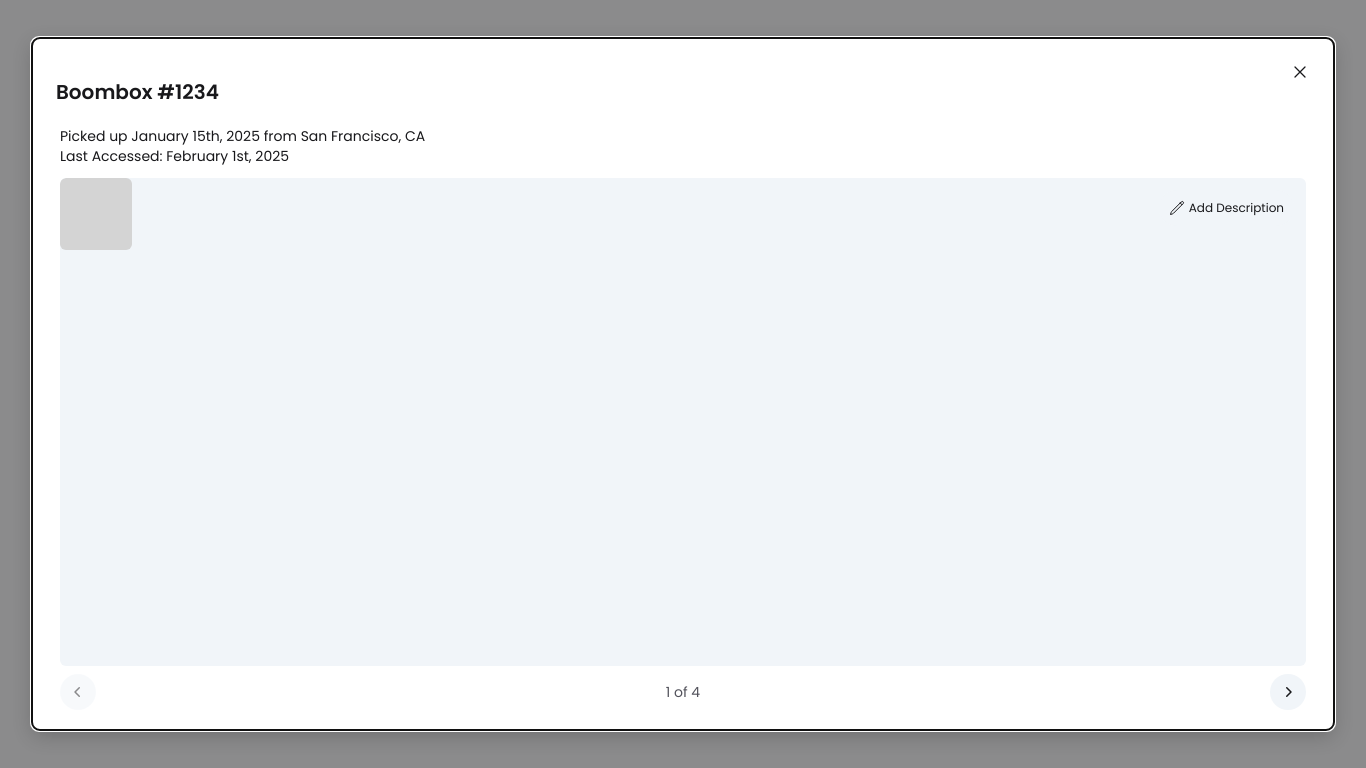
Test: StorageUnitPopup › Image Navigation › navigates to next image when next button is clicked
Click the button named "Next image": (1288, 692) [1270,674,1306,710]
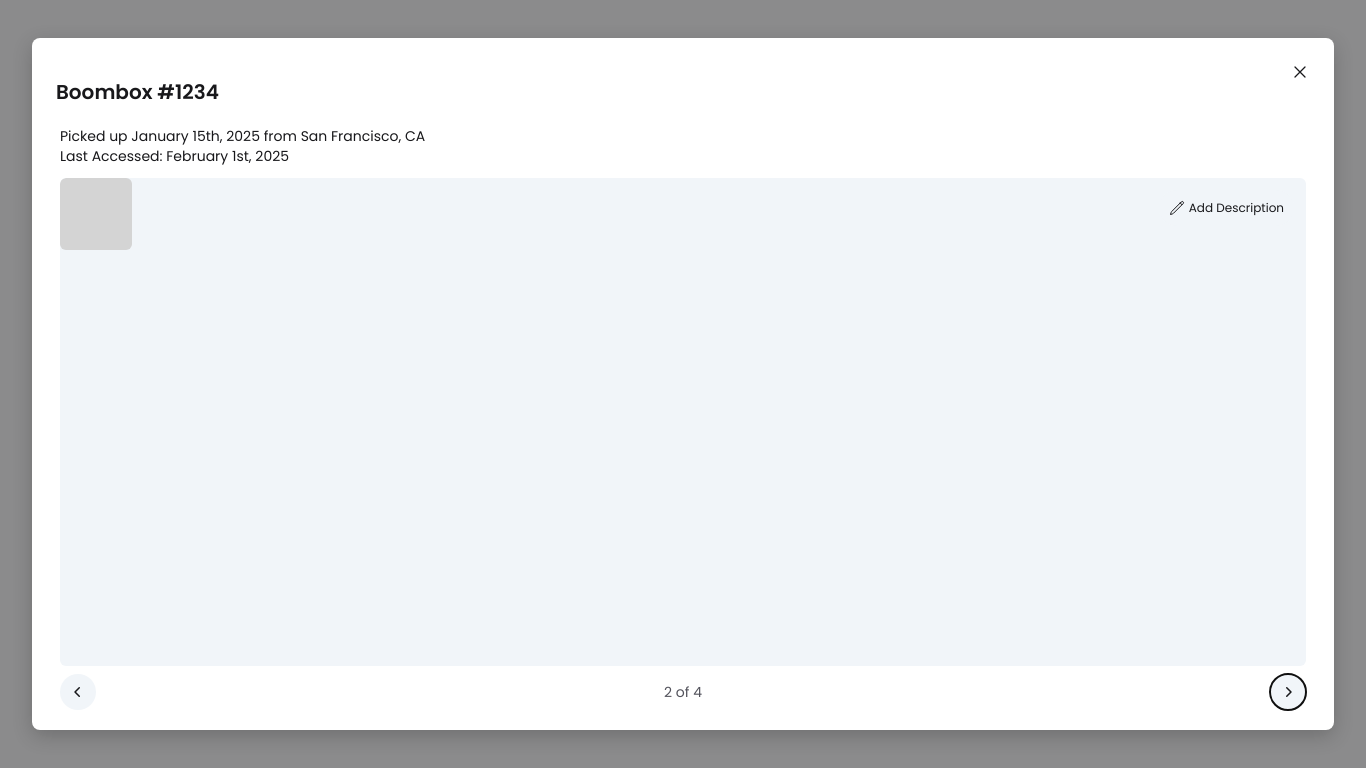
Expected: the text "2 of 4" is shown, [664,682,702,702]
